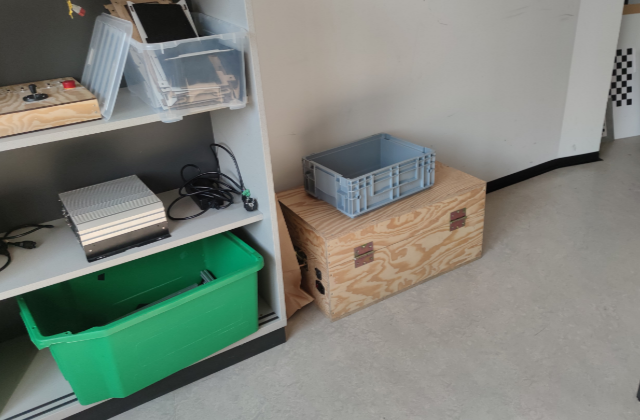Box: (299, 130, 435, 219)
